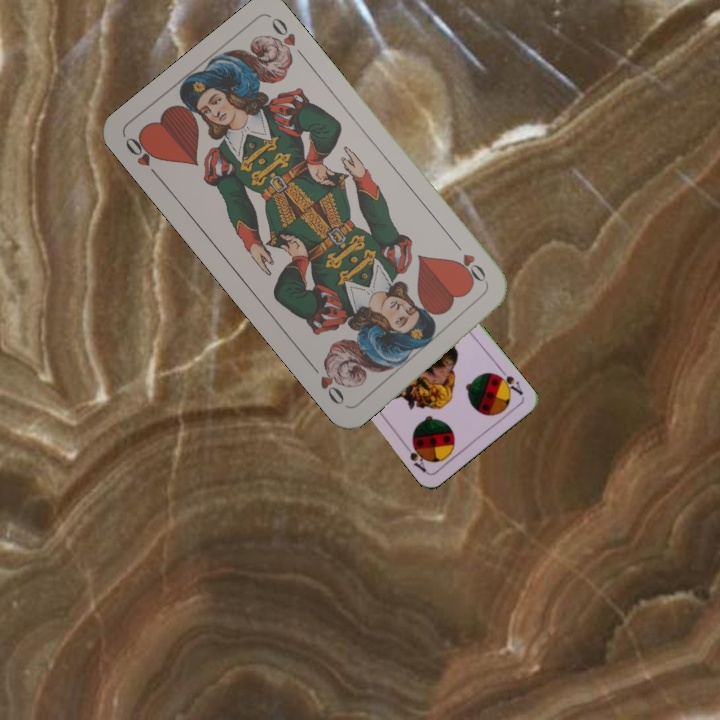HO: (121, 131, 164, 182), (450, 239, 492, 291)
SA: (491, 364, 526, 398)
